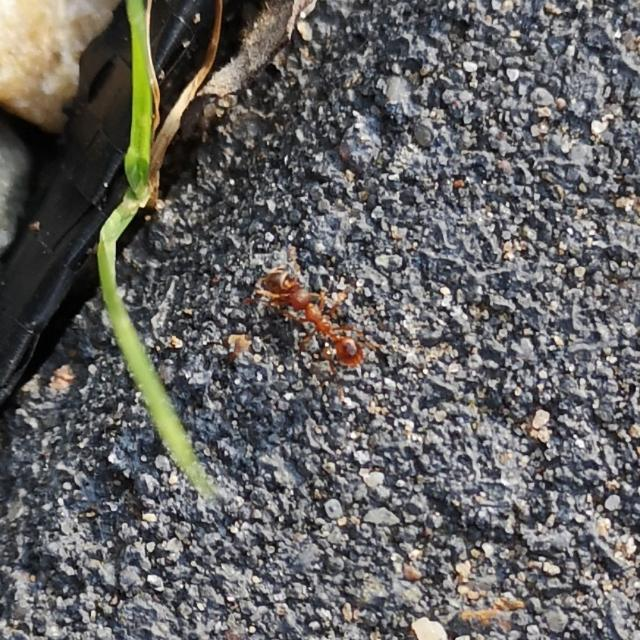Myrmica: (240, 242, 388, 386)
